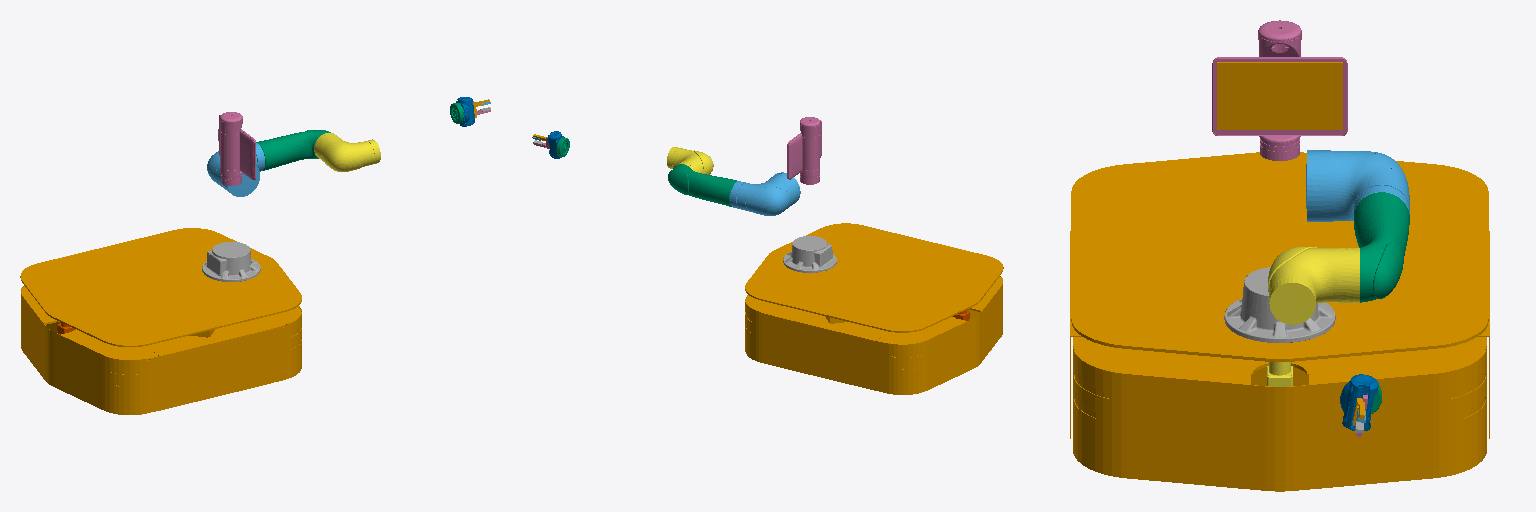
robot.urdf — ridgeback_sawyer:
<?xml version="1.0" encoding="UTF-8"?>
<robot name="ridgeback_sawyer">
  <joint name="dummy_base_prismatic_x_joint" type="prismatic">
    <origin xyz="0. 0. 0." rpy="0. 0. 0."/>
    <parent link="sawyer_mobile"/>
    <child link="dummy_base_x"/>
    <axis xyz="1. 0. 0."/>
    <limit lower="-600.2800293" upper="600.2800293" effort="4800." velocity="15."/>
  </joint>
  <joint name="dummy_base_prismatic_y_joint" type="prismatic">
    <origin xyz="0.0000004 0. 0. " rpy="0. 0. 1.5707964"/>
    <parent link="dummy_base_x"/>
    <child link="dummy_base_y"/>
    <axis xyz="1. 0. 0."/>
    <limit lower="-600.2800293" upper="600.2800293" effort="4800." velocity="15."/>
  </joint>
  <joint name="dummy_base_revolute_z_joint" type="revolute">
    <origin xyz="-0. 0. 0." rpy="-1.5707964 -1.5707964 0. "/>
    <parent link="dummy_base_y"/>
    <child link="base_link"/>
    <axis xyz="1. 0. 0."/>
    <limit lower="-600.2800208" upper="600.2800208" effort="4800." velocity="15.0000002"/>
  </joint>
  <joint name="front_laser_joint" type="fixed">
    <origin xyz="0.233 0. -0.3932" rpy="0. 1.5707963 0. "/>
    <parent link="base_link"/>
    <child link="front_laser"/>
  </joint>
  <joint name="rear_laser_joint" type="fixed">
    <origin xyz="0.233 -0. 0.3932" rpy="1.5707964 -1.5707958 1.5707964"/>
    <parent link="base_link"/>
    <child link="rear_laser"/>
  </joint>
  <joint name="display_joint" type="fixed">
    <origin xyz="0.105 0. -0.03 " rpy="3.1415927 0. 1.5707964"/>
    <parent link="head"/>
    <child link="screen"/>
  </joint>
  <joint name="head_pan" type="revolute">
    <origin xyz="0.2965 0. 0. " rpy="0. 0. 0."/>
    <parent link="right_l0"/>
    <child link="head"/>
    <axis xyz="1. 0. 0."/>
    <limit lower="-5.0951997" upper="0.9064" effort="480." velocity="1.8"/>
  </joint>
  <joint name="right_arm_mount" type="fixed">
    <origin xyz="0.28 0.0 -0.290" rpy="0. 1.5707964 0"/>
    <parent link="base_link"/>
    <child link="right_arm_base_link"/>
  </joint>
  <joint name="right_j0" type="revolute">
    <origin xyz="0. 0. 0.08" rpy="0. -1.5707964 0. "/>
    <parent link="right_arm_base_link"/>
    <child link="right_l0"/>
    <axis xyz="1. 0. 0."/>
    <limit lower="-3.0502998" upper="3.0502998" effort="4800." velocity="1.74"/>
  </joint>
  <joint name="right_j1" type="revolute">
    <origin xyz="0.237 0.05 -0.081" rpy="1.5707964 0. 1.5707964"/>
    <parent link="right_l0"/>
    <child link="right_l1"/>
    <axis xyz="1. 0. 0."/>
    <limit lower="-3.8094999" upper="2.2736" effort="4800." velocity="1.3279999"/>
  </joint>
  <joint name="right_j2" type="revolute">
    <origin xyz="0.1425 -0.14 -0. " rpy="-0. 0. -1.5707963"/>
    <parent link="right_l1"/>
    <child link="right_l2"/>
    <axis xyz="1. 0. 0."/>
    <limit lower="-3.0425998" upper="3.0425998" effort="2400." velocity="1.957"/>
  </joint>
  <joint name="right_j3" type="revolute">
    <origin xyz="0.26 -0.042 -0.0000001" rpy="0.0000002 -0. 1.5707963"/>
    <parent link="right_l2"/>
    <child link="right_l3"/>
    <axis xyz="1. 0. 0."/>
    <limit lower="-3.0438999" upper="3.0438999" effort="2400." velocity="1.957"/>
  </joint>
  <joint name="right_j4" type="revolute">
    <origin xyz="-0.1265 -0.1249999 0. " rpy="-0.0000001 -0.0000001 -1.5707963"/>
    <parent link="right_l3"/>
    <child link="right_l4"/>
    <axis xyz="1. 0. 0."/>
    <limit lower="-2.9760998" upper="2.9760998" effort="540." velocity="3.4849998"/>
  </joint>
  <joint name="right_j5" type="revolute">
    <origin xyz="0.2749999 0.031 0. " rpy="0.0000001 -0.0000001 1.5707963"/>
    <parent link="right_l4"/>
    <child link="right_l5"/>
    <axis xyz="1. 0. 0."/>
    <limit lower="-2.9760998" upper="2.9760998" effort="540." velocity="3.4849998"/>
  </joint>
  <joint name="right_j6" type="revolute">
    <origin xyz="0.1053 -0.11 0. " rpy="2.9670625 0.0000072 -1.5707961"/>
    <parent link="right_l5"/>
    <child link="right_l6"/>
    <axis xyz="1. 0. 0."/>
    <limit lower="-4.7123996" upper="4.7123996" effort="540." velocity="4.5450003"/>
  </joint>
  <joint name="right_l6_right_hand" type="fixed">
    <origin xyz="0.0245 0. 0. " rpy="1.5707961 0.0000001 0.0000002"/>
    <parent link="right_l6"/>
    <child link="sawyer_right_hand"/>
  </joint>
  <joint name="right_connector_plate_base_joint" type="fixed">
    <origin xyz="0. 0. 0.0018" rpy="0. 0. 0."/>
    <parent link="right_gripper_base"/>
    <child link="right_connector_plate_base"/>
  </joint>
  <joint name="right_connector_plate_mount_joint" type="fixed">
    <origin xyz="0. -0. 0.0176001" rpy="0. 0. 0."/>
    <parent link="right_connector_plate_base"/>
    <child link="right_connector_plate_mount"/>
  </joint>
  <joint name="right_electric_gripper_base_joint" type="fixed">
    <origin xyz="0. -0. -0.0000001" rpy="0. 0. 0."/>
    <parent link="right_connector_plate_mount"/>
    <child link="right_electric_gripper_base"/>
  </joint>
  <joint name="right_gripper_base_joint" type="fixed">
    <origin xyz="0. 0. -0.005" rpy="-1.5707964 1.5707964 -1.5707964"/>
    <parent link="sawyer_right_hand"/>
    <child link="right_gripper_base"/>
  </joint>
  <joint name="right_gripper_l_finger_joint" type="prismatic">
    <origin xyz="0.003 -0.0015 0.04552" rpy="-0. 0.0000001 -0.0000002"/>
    <parent link="right_electric_gripper_base"/>
    <child link="right_gripper_l_finger"/>
    <axis xyz="0. 1. 0."/>
    <limit lower="0." upper="0.020833" effort="20." velocity="5."/>
  </joint>
  <joint name="right_gripper_l_finger_tip_joint" type="fixed">
    <origin xyz="-0. 0.01725 0.075 " rpy="0.0000001 0. -0.0000001"/>
    <parent link="right_gripper_l_finger"/>
    <child link="right_gripper_l_finger_tip"/>
  </joint>
  <joint name="right_gripper_r_finger_joint" type="prismatic">
    <origin xyz="0.003 0.0015 0.04552" rpy="-0. 0.0000001 -0.0000002"/>
    <parent link="right_electric_gripper_base"/>
    <child link="right_gripper_r_finger"/>
    <axis xyz="0. 1. 0."/>
    <limit lower="-0.020833" upper="0." effort="340282346638528859811704183484516925440." velocity="5."/>
  </joint>
  <joint name="right_gripper_r_finger_tip_joint" type="fixed">
    <origin xyz="-0. -0.01725 0.0750001" rpy="0. -0.0000001 0. "/>
    <parent link="right_gripper_r_finger"/>
    <child link="right_gripper_r_finger_tip"/>
  </joint>
  <joint name="right_gripper_tip_joint" type="fixed">
    <origin xyz="0. 0. 0.14062" rpy="0. 0. 0."/>
    <parent link="right_gripper_base"/>
    <child link="right_gripper_tip"/>
  </joint>
  <joint name="torso_t0" type="fixed">
    <origin xyz="0. 0. 0." rpy="0. 0. 0."/>
    <parent link="base_link"/>
    <child link="torso"/>
  </joint>
  <link name="base_link">
    <inertial>
      <origin xyz="0.012 0.002 0.067" rpy="0. 0. 0."/>
      <mass value="1000."/>
      <inertia ixx="4.4744" ixy="0." ixz="0." iyy="7.1623998" iyz="0." izz="4.6155"/>
    </inertial>
    <visual>
      <origin xyz="0. 0. -0." rpy="0. 1.5707963 0. "/>
      <geometry>
        <mesh filename="./meshes/base_link_visuals_mesh_0.obj" scale="1. 1. 1."/>
      </geometry>
    </visual>
    <visual>
      <origin xyz="0. 0. -0." rpy="1.5707964 -1.5707958 1.5707964"/>
      <geometry>
        <mesh filename="./meshes/base_link_visuals_mesh_1.obj" scale="1. 1. 1."/>
      </geometry>
    </visual>
    <visual>
      <origin xyz="0. 0. -0." rpy="0. 1.5707963 0. "/>
      <geometry>
        <mesh filename="./meshes/mesh_2.obj" scale="1. 1. 1."/>
      </geometry>
    </visual>
    <visual>
      <origin xyz="0. 0. -0." rpy="0. 1.5707963 0. "/>
      <geometry>
        <mesh filename="./meshes/mesh_3.obj" scale="1. 1. 1."/>
      </geometry>
    </visual>
    <visual>
      <origin xyz="0. 0. -0." rpy="1.5707964 -1.5707958 1.5707964"/>
      <geometry>
        <mesh filename="./meshes/mesh_4.obj" scale="1. 1. 1."/>
      </geometry>
    </visual>
    <visual>
      <origin xyz="0. 0. -0." rpy="0. 1.5707963 0. "/>
      <geometry>
        <mesh filename="./meshes/mesh_5.obj" scale="1. 1. 1."/>
      </geometry>
    </visual>
    <visual>
      <origin xyz="0. 0. -0." rpy="1.5707964 -1.5707958 1.5707964"/>
      <geometry>
        <mesh filename="./meshes/mesh_6.obj" scale="1. 1. 1."/>
      </geometry>
    </visual>
    <visual>
      <origin xyz="0. 0. -0." rpy="0. 1.5707963 0. "/>
      <geometry>
        <mesh filename="./meshes/mesh_7.obj" scale="1. 1. 1."/>
      </geometry>
    </visual>
    <collision>
      <origin xyz="0. 0. -0." rpy="0. 1.5707963 0. "/>
      <geometry>
        <mesh filename="./meshes/base_link_collisions_mesh_0.obj" scale="1. 1. 1."/>
      </geometry>
    </collision>
    <collision>
      <origin xyz="0. 0. -0." rpy="0. 1.5707963 0. "/>
      <geometry>
        <mesh filename="./meshes/base_link_collisions_mesh_1.obj" scale="1. 1. 1."/>
      </geometry>
    </collision>
  </link>
  <link name="dummy_base_x">
    <inertial>
      <origin xyz="0. 0. 0." rpy="0. 0. 0."/>
      <mass value="0.0001"/>
      <inertia ixx="0.001" ixy="0." ixz="0." iyy="0.001" iyz="0." izz="0.001"/>
    </inertial>
  </link>
  <link name="dummy_base_y">
    <inertial>
      <origin xyz="0. 0. 0." rpy="0. 0. 0."/>
      <mass value="0.0001"/>
      <inertia ixx="0.001" ixy="0." ixz="0." iyy="0.001" iyz="0." izz="0.001"/>
    </inertial>
  </link>
  <link name="front_laser">
    <inertial>
      <origin xyz="0. 0. 0." rpy="0. 0. 0."/>
      <mass value="0.13"/>
      <inertia ixx="0.0000802" ixy="0." ixz="0." iyy="0.0000802" iyz="0." izz="0.0000542"/>
    </inertial>
    <visual>
      <origin xyz="0. 0. 0." rpy="0. 0. 0."/>
      <geometry>
        <mesh filename="./meshes/front_laser_visuals.obj" scale="1. 1. 1."/>
      </geometry>
    </visual>
    <collision>
      <origin xyz="0. 0. -0.0122" rpy="0. 0. 0."/>
      <geometry>
        <box size="0.05 0.05 0.07"/>
      </geometry>
    </collision>
  </link>
  <link name="sawyer_mobile"/>
  <link name="rear_laser">
    <inertial>
      <origin xyz="0. 0. 0." rpy="0. 0. 0."/>
      <mass value="0.13"/>
      <inertia ixx="0.0000802" ixy="0." ixz="0." iyy="0.0000802" iyz="0." izz="0.0000542"/>
    </inertial>
    <visual>
      <origin xyz="0. -0. 0." rpy="0. 0. -0."/>
      <geometry>
        <mesh filename="./meshes/rear_laser_visuals.obj" scale="1. 1. 1."/>
      </geometry>
    </visual>
    <collision>
      <origin xyz="0. -0. -0.0122" rpy="0. 0. -0."/>
      <geometry>
        <box size="0.05 0.05 0.07"/>
      </geometry>
    </collision>
  </link>
  <link name="head">
    <inertial>
      <origin xyz="0.0053207 -0.0000265 0.1021 " rpy="0. 0. 0."/>
      <mass value="1.5795"/>
      <inertia ixx="0.011833" ixy="0." ixz="0." iyy="0.0082709" iyz="0." izz="0.0049661"/>
    </inertial>
    <visual>
      <origin xyz="0. 0. 0." rpy="0. 1.5707964 0. "/>
      <geometry>
        <mesh filename="./meshes/head_visuals_mesh_0.obj" scale="1. 1. 1."/>
      </geometry>
    </visual>
    <collision>
      <origin xyz="0.08 0. 0. " rpy="0. 1.5707964 0. "/>
      <geometry>
        <sphere radius="0.18"/>
      </geometry>
    </collision>
  </link>
  <link name="right_arm_base_link">
    <inertial>
      <origin xyz="-0.0006241 -0.000028 0.065404 " rpy="0. 0. 0."/>
      <mass value="2.0687001"/>
      <inertia ixx="0.0067599" ixy="0." ixz="0." iyy="0.0067877" iyz="0." izz="0.0074031"/>
    </inertial>
    <visual>
      <origin xyz="0. 0. 0." rpy="0. 0. 0."/>
      <geometry>
        <mesh filename="./meshes/right_arm_base_link_visuals_mesh_0.obj" scale="1. 1. 1."/>
      </geometry>
    </visual>
    <collision>
      <origin xyz="0. 0. 0.12" rpy="0. 0. 0."/>
      <geometry>
        <cylinder radius="0.08" length="0.24"/>
      </geometry>
    </collision>
  </link>
  <link name="right_l0">
    <inertial>
      <origin xyz="0.024366 0.010969 0.14363 " rpy="0. 0. 0."/>
      <mass value="5.3213"/>
      <inertia ixx="0.053314" ixy="0." ixz="0." iyy="0.057902" iyz="0." izz="0.023659"/>
    </inertial>
    <visual>
      <origin xyz="0. 0. 0." rpy="0. 1.5707964 0. "/>
      <geometry>
        <mesh filename="./meshes/right_l0_visuals_mesh_0.obj" scale="1. 1. 1."/>
      </geometry>
    </visual>
    <collision>
      <origin xyz="0.23 0. -0.08" rpy="0. 1.5707964 0. "/>
      <geometry>
        <sphere radius="0.07"/>
      </geometry>
    </collision>
  </link>
  <link name="right_l1">
    <inertial>
      <origin xyz="-0.0030849 -0.026811 0.092521 " rpy="0. 0. 0."/>
      <mass value="4.5050001"/>
      <inertia ixx="0.022398" ixy="0." ixz="0." iyy="0.014613" iyz="0." izz="0.017295"/>
    </inertial>
    <visual>
      <origin xyz="0. 0. 0." rpy="-0. 1.5707963 0. "/>
      <geometry>
        <mesh filename="./meshes/right_l1_visuals_mesh_0.obj" scale="1. 1. 1."/>
      </geometry>
    </visual>
    <collision>
      <origin xyz="0.1225 0. -0. " rpy="-0. 1.5707963 0. "/>
      <geometry>
        <sphere radius="0.07"/>
      </geometry>
    </collision>
  </link>
  <link name="right_l2">
    <inertial>
      <origin xyz="-0.0001604 -0.014967 0.13582 " rpy="0. 0. 0."/>
      <mass value="1.745"/>
      <inertia ixx="0.025506" ixy="0." ixz="0." iyy="0.0253" iyz="0." izz="0.0034179"/>
    </inertial>
    <visual>
      <origin xyz="-0. -0. -0." rpy="2.9025872 1.5707961 2.9025872"/>
      <geometry>
        <mesh filename="./meshes/right_l2_visuals_mesh_0.obj" scale="1. 1. 1."/>
      </geometry>
    </visual>
    <collision>
      <origin xyz="0.08 -0. -0. " rpy="2.9025872 1.5707961 2.9025872"/>
      <geometry>
        <cylinder radius="0.06" length="0.34"/>
      </geometry>
    </collision>
  </link>
  <link name="right_l3">
    <inertial>
      <origin xyz="-0.0048135 -0.0281 -0.084154 " rpy="0. 0. 0."/>
      <mass value="2.5097001"/>
      <inertia ixx="0.01016" ixy="0." ixz="0." iyy="0.0065685" iyz="0." izz="0.0069078"/>
    </inertial>
    <visual>
      <origin xyz="0. 0.0000001 -0. " rpy="-2.1431708 1.5707961 -2.1431708"/>
      <geometry>
        <mesh filename="./meshes/right_l3_visuals_mesh_0.obj" scale="1. 1. 1."/>
      </geometry>
    </visual>
    <collision>
      <origin xyz="-0.12 -0.0099999 0. " rpy="-2.1431708 1.5707961 -2.1431708"/>
      <geometry>
        <sphere radius="0.06"/>
      </geometry>
    </collision>
  </link>
  <link name="right_l4">
    <inertial>
      <origin xyz="-0.0018844 0.0069001 0.1341 " rpy="0. 0. 0."/>
      <mass value="1.1136"/>
      <inertia ixx="0.013557" ixy="0." ixz="0." iyy="0.013555" iyz="0." izz="0.0013658"/>
    </inertial>
    <visual>
      <origin xyz="-0.0000001 0.0000001 0.0000001" rpy="2.5692182 1.5707961 2.5692182"/>
      <geometry>
        <mesh filename="./meshes/right_l4_visuals_mesh_0.obj" scale="1. 1. 1."/>
      </geometry>
    </visual>
    <collision>
      <origin xyz="0.1099999 0.0000001 0. " rpy="2.5692182 1.5707961 2.5692182"/>
      <geometry>
        <cylinder radius="0.045" length="0.3"/>
      </geometry>
    </collision>
  </link>
  <link name="right_l5">
    <inertial>
      <origin xyz="0.0061133 -0.023697 0.076416 " rpy="0. 0. 0."/>
      <mass value="1.5625"/>
      <inertia ixx="0.0047328" ixy="0." ixz="0." iyy="0.0029676" iyz="0." izz="0.0031762"/>
    </inertial>
    <visual>
      <origin xyz="-0. 0. -0." rpy="-2.1431708 1.5707961 -2.1431708"/>
      <geometry>
        <mesh filename="./meshes/right_l5_visuals_mesh_0.obj" scale="1. 1. 1."/>
      </geometry>
    </visual>
    <collision>
      <origin xyz="0.1 0. -0. " rpy="-2.1431708 1.5707961 -2.1431708"/>
      <geometry>
        <sphere radius="0.06"/>
      </geometry>
    </collision>
  </link>
  <link name="right_l6">
    <inertial>
      <origin xyz="-0.0000081 0.0085838 -0.0049566" rpy="0. 0. 0."/>
      <mass value="0.3292"/>
      <inertia ixx="0.0003111" ixy="0." ixz="0." iyy="0.0002155" iyz="0." izz="0.0003598"/>
    </inertial>
    <visual>
      <origin xyz="-0. -0. 0." rpy="-0.0000002 1.5707963 0. "/>
      <geometry>
        <mesh filename="./meshes/right_l6_visuals_mesh_0.obj" scale="1. 1. 1."/>
      </geometry>
    </visual>
    <collision>
      <origin xyz="-0.01 0.015 0. " rpy="-0.0000002 1.5707963 0. "/>
      <geometry>
        <cylinder radius="0.055" length="0.05"/>
      </geometry>
    </collision>
  </link>
  <link name="sawyer_right_hand">
    <inertial>
      <origin xyz="0. 0. 0." rpy="0. 0. 0."/>
      <mass value="0."/>
      <inertia ixx="0." ixy="0." ixz="0." iyy="0." iyz="0." izz="0."/>
    </inertial>
  </link>
  <link name="screen">
    <inertial>
      <origin xyz="0. 0. 0." rpy="0. 0. 0."/>
      <mass value="0.0001"/>
      <inertia ixx="0." ixy="0." ixz="0." iyy="0." iyz="0." izz="0."/>
    </inertial>
    <visual>
      <origin xyz="0. -0. 0." rpy="0. 0. 0."/>
      <geometry>
        <box size="0.24 0.14 0.002"/>
      </geometry>
    </visual>
    <collision>
      <origin xyz="0. -0. 0." rpy="0. 0. 0."/>
      <geometry>
        <sphere radius="0.001"/>
      </geometry>
    </collision>
  </link>
  <link name="torso">
    <inertial>
      <origin xyz="0. 0. 0." rpy="0. 0. 0."/>
      <mass value="0.0001"/>
      <inertia ixx="0." ixy="0." ixz="0." iyy="0." iyz="0." izz="0."/>
    </inertial>
    <visual>
      <origin xyz="0. 0. 0." rpy="0. 0. 0."/>
      <geometry>
        <box size="0.001 0.001 0.001"/>
      </geometry>
    </visual>
  </link>
  <link name="right_connector_plate_base">
    <inertial>
      <origin xyz="0. 0. 0." rpy="0. 0. 0."/>
      <mass value="0.000001"/>
      <inertia ixx="0.001" ixy="0." ixz="0." iyy="0.001" iyz="0." izz="0.001"/>
    </inertial>
    <visual>
      <origin xyz="-0. 0. 0.0000002" rpy="0. 0. 0."/>
      <geometry>
        <mesh filename="meshes/right_connector_plate_base_visuals.obj" scale="1. 1. 1."/>
      </geometry>
    </visual>
    <collision>
      <origin xyz="0. -0. 0.0135001" rpy="0. 0. 0."/>
      <geometry>
        <cylinder radius="0.04" length="0.0302"/>
      </geometry>
    </collision>
  </link>
  <link name="right_connector_plate_mount">
    <inertial>
      <origin xyz="0. 0. 0." rpy="0. 0. 0."/>
      <mass value="0.000001"/>
      <inertia ixx="0.00001" ixy="0." ixz="0." iyy="0.00001" iyz="0." izz="0.00001"/>
    </inertial>
  </link>
  <link name="right_electric_gripper_base">
    <inertial>
      <origin xyz="0. 0. 0." rpy="0. 0. 0."/>
      <mass value="0.000002"/>
      <inertia ixx="0.001" ixy="0." ixz="0." iyy="0.001" iyz="0." izz="0.001"/>
    </inertial>
    <visual>
      <origin xyz="-0. 0. 0." rpy="-0. 0.0000001 -0.0000002"/>
      <geometry>
        <mesh filename="meshes/right_electric_gripper_base_visuals.obj" scale="1. 1. 1."/>
      </geometry>
    </visual>
    <collision>
      <origin xyz="0.004 -0. 0.025" rpy="1.5707964 -0.0000002 3.1415925"/>
      <geometry>
        <cylinder radius="0.029" length="0.1"/>
      </geometry>
    </collision>
  </link>
  <link name="right_gripper_base">
    <inertial>
      <origin xyz="0. 0. 0." rpy="0. 0. 0."/>
      <mass value="0.47"/>
      <inertia ixx="0.00001" ixy="0." ixz="0." iyy="0.00001" iyz="0." izz="0.00001"/>
    </inertial>
  </link>
  <link name="right_gripper_l_finger">
    <inertial>
      <origin xyz="0. 0. 0." rpy="0. 0. 0."/>
      <mass value="0.001"/>
      <inertia ixx="0.001" ixy="0." ixz="0." iyy="0.001" iyz="0." izz="0.001"/>
    </inertial>
    <visual>
      <origin xyz="0. -0. -0." rpy="-0.0000001 -0. 3.1415925"/>
      <geometry>
        <mesh filename="meshes/right_gripper_l_finger_visuals_mesh_0.obj" scale="1. 1. 1."/>
      </geometry>
    </visual>
    <visual>
      <origin xyz="-0. 0.01725 0.04 " rpy="-0.0000001 -0. 3.1415925"/>
      <geometry>
        <box size="0.01 0.0135 0.075 "/>
      </geometry>
    </visual>
    <visual>
      <origin xyz="-0.005 -0.003 0.0083" rpy="-0.0000001 -0. 3.1415925"/>
      <geometry>
        <box size="0.01 0.05 0.017"/>
      </geometry>
    </visual>
    <collision>
      <origin xyz="-0. 0.01725 0.04 " rpy="-0.0000001 -0. 3.1415925"/>
      <geometry>
        <box size="0.01 0.0135 0.075 "/>
      </geometry>
    </collision>
  </link>
  <link name="right_gripper_l_finger_tip">
    <inertial>
      <origin xyz="0. 0. 0." rpy="0. 0. 0."/>
      <mass value="0.001"/>
      <inertia ixx="0.001" ixy="0." ixz="0." iyy="0.001" iyz="0." izz="0.001"/>
    </inertial>
    <visual>
      <origin xyz="-0. -0. -0." rpy="-0.0000001 0.0000003 -3.1415923"/>
      <geometry>
        <mesh filename="meshes/right_gripper_l_finger_tip_visuals_mesh_0.obj" scale="1. 1. 1."/>
      </geometry>
    </visual>
    <visual>
      <origin xyz="-0. -0.0045 -0.015 " rpy="-0.0000001 0.0000003 -3.1415923"/>
      <geometry>
        <box size="0.016 0.007 0.037"/>
      </geometry>
    </visual>
    <collision>
      <origin xyz="-0. -0.0045 -0.015 " rpy="-0.0000001 0.0000003 -3.1415923"/>
      <geometry>
        <box size="0.016 0.007 0.037"/>
      </geometry>
    </collision>
  </link>
  <link name="right_gripper_r_finger">
    <inertial>
      <origin xyz="0. 0. 0." rpy="0. 0. 0."/>
      <mass value="0.001"/>
      <inertia ixx="0.001" ixy="0." ixz="0." iyy="0.001" iyz="0." izz="0.001"/>
    </inertial>
    <visual>
      <origin xyz="-0. -0. 0.0000001" rpy="0. -0.0000001 0. "/>
      <geometry>
        <mesh filename="meshes/right_gripper_r_finger_visuals_mesh_0.obj" scale="1. 1. 1."/>
      </geometry>
    </visual>
    <visual>
      <origin xyz="-0. -0.01725 0.0400001" rpy="0. -0.0000001 0. "/>
      <geometry>
        <box size="0.01 0.0135 0.075 "/>
      </geometry>
    </visual>
    <visual>
      <origin xyz="0.005 0.003 0.0083001" rpy="0. -0.0000001 0. "/>
      <geometry>
        <box size="0.01 0.05 0.017"/>
      </geometry>
    </visual>
    <collision>
      <origin xyz="-0. -0.01725 0.0400001" rpy="0. -0.0000001 0. "/>
      <geometry>
        <box size="0.01 0.0135 0.075 "/>
      </geometry>
    </collision>
  </link>
  <link name="right_gripper_r_finger_tip">
    <inertial>
      <origin xyz="0. 0. 0." rpy="0. 0. 0."/>
      <mass value="0.001"/>
      <inertia ixx="0.001" ixy="0." ixz="0." iyy="0.001" iyz="0." izz="0.001"/>
    </inertial>
    <visual>
      <origin xyz="0. -0. -0." rpy="0.0000003 0. 0.0000001"/>
      <geometry>
        <mesh filename="meshes/right_gripper_r_finger_tip_visuals_mesh_0.obj" scale="1. 1. 1."/>
      </geometry>
    </visual>
    <visual>
      <origin xyz="0. 0.0045 -0.015 " rpy="0.0000003 0. 0.0000001"/>
      <geometry>
        <box size="0.016 0.007 0.037"/>
      </geometry>
    </visual>
    <collision>
      <origin xyz="0. 0.0045 -0.015 " rpy="0.0000003 0. 0.0000001"/>
      <geometry>
        <box size="0.016 0.007 0.037"/>
      </geometry>
    </collision>
  </link>
  <link name="right_gripper_tip">
    <inertial>
      <origin xyz="0. 0. 0." rpy="0. 0. 0."/>
      <mass value="0.000002"/>
      <inertia ixx="0.00001" ixy="0." ixz="0." iyy="0.00001" iyz="0." izz="0.00001"/>
    </inertial>
  </link>
</robot>

--- Render facts (derived) ---
The picture shows the robot from 3 angles, left to right: view 1: azimuth 30°, elevation 25°; view 2: azimuth 150°, elevation 25°; view 3: azimuth 270°, elevation 25°; orthographic projection.
Robot: ridgeback_sawyer — 27 links, 26 joints (9 revolute, 4 prismatic, 13 fixed); root link sawyer_mobile; default pose: all joints at 0.
Visible links, largest first — view 1: base_link, head, right_l3, right_arm_base_link, right_l2, right_l1; view 2: base_link, right_l1, head, right_l2, right_arm_base_link, right_l3; view 3: base_link, screen, right_l3, right_l1, right_l2, head, right_arm_base_link, right_electric_gripper_base, front_laser.
Boxes of the visible links, x1,y1,x2,y2 form: base_link: (20, 228, 301, 414); head: (218, 112, 255, 185); right_l3: (314, 133, 380, 171); right_arm_base_link: (202, 242, 260, 281); right_l2: (256, 130, 330, 170); right_l1: (207, 143, 264, 196); base_link: (745, 223, 1003, 394); right_l1: (730, 172, 800, 215); head: (787, 117, 821, 184); right_l2: (668, 164, 736, 206); right_arm_base_link: (783, 236, 836, 272); right_l3: (667, 147, 713, 174); base_link: (1070, 152, 1489, 491); screen: (1217, 62, 1342, 129); right_l3: (1268, 247, 1359, 324); right_l1: (1306, 150, 1409, 221); right_l2: (1354, 192, 1409, 302); head: (1212, 20, 1347, 160); right_arm_base_link: (1224, 267, 1335, 342); right_electric_gripper_base: (1340, 374, 1378, 430); front_laser: (1267, 362, 1292, 386).
Size in the robot's own frame: 1.92 by 0.7932 by 0.8905 metres.
Meshes: 25 distinct files referenced, 21 mesh visuals loaded (21 OBJ); not drawn: 4 (reference not matched to a file when rendering).
